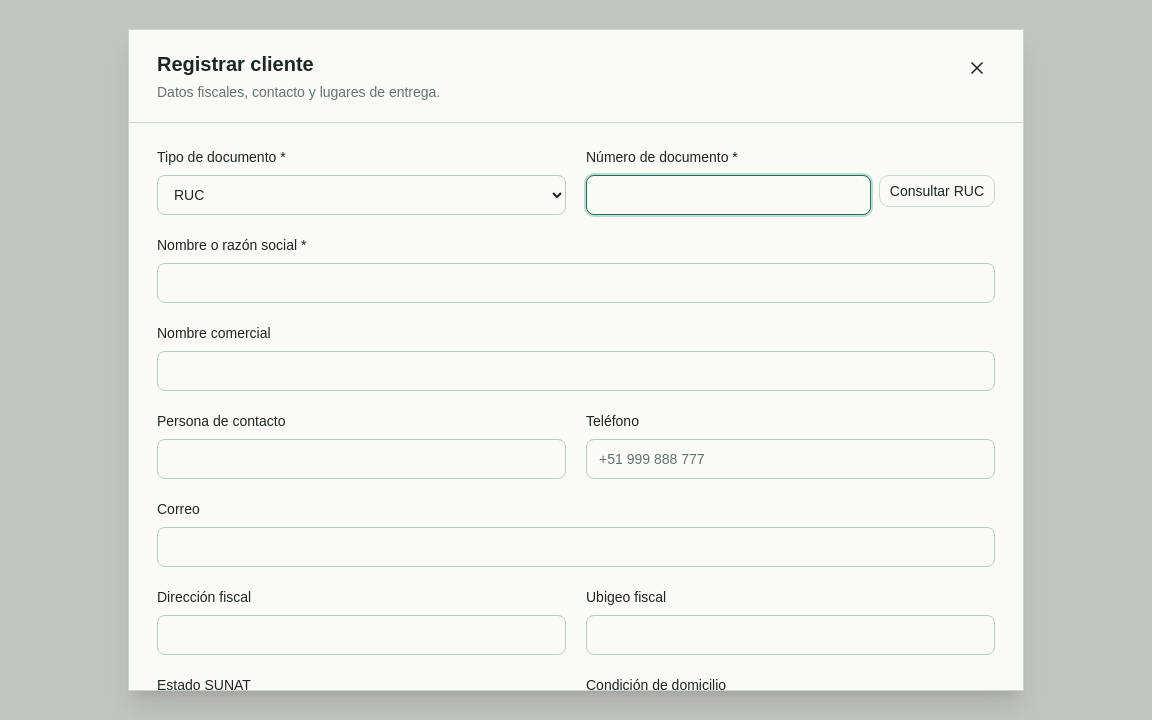
Test: DialogoCliente › descarta una respuesta tardía si el RUC cambió durante la consulta
Type "20550154065" into the field labelled "Número de documento *" at (728, 195), box [586,175,871,215]
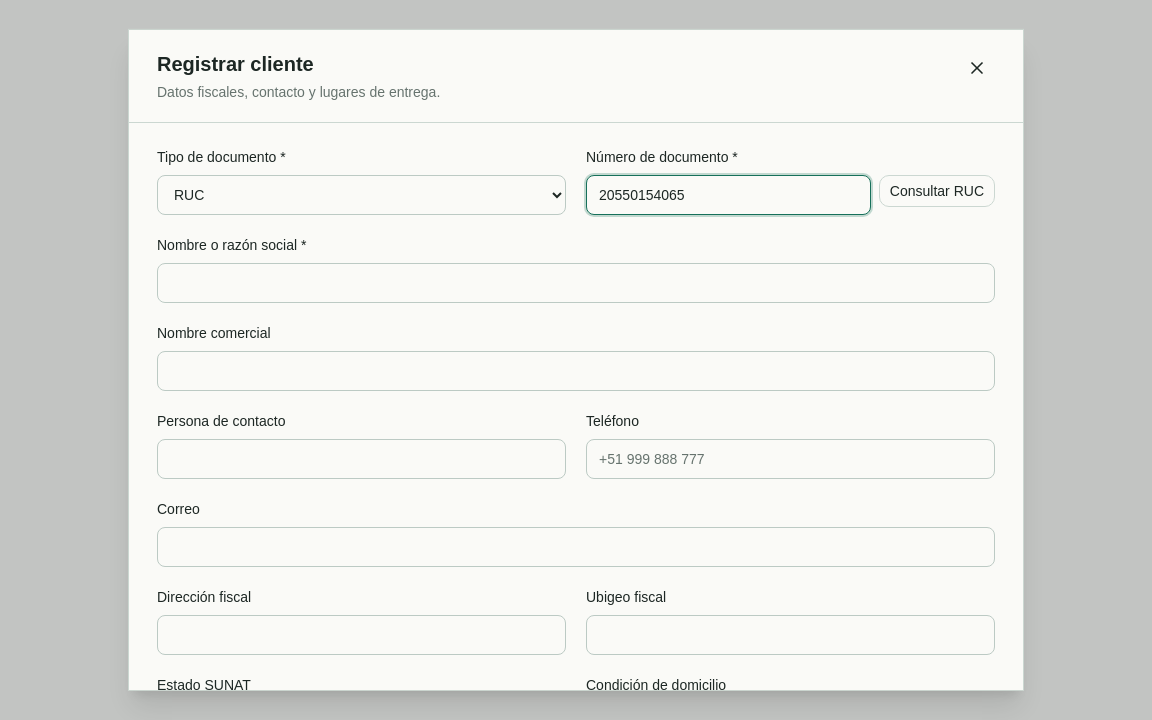
Click the button "Consultar RUC" at (937, 191), box [879,175,995,207]
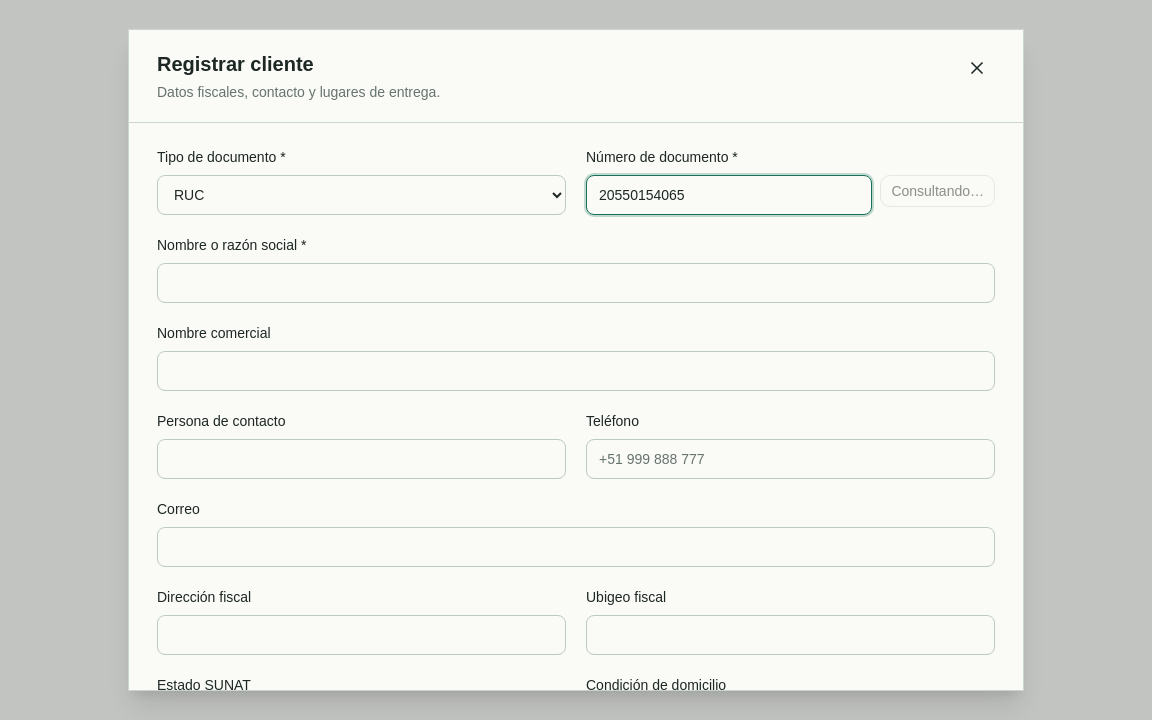
Replace the text in the field labelled "Número de documento *" with "20610712861" at (729, 195), box [586,175,872,215]
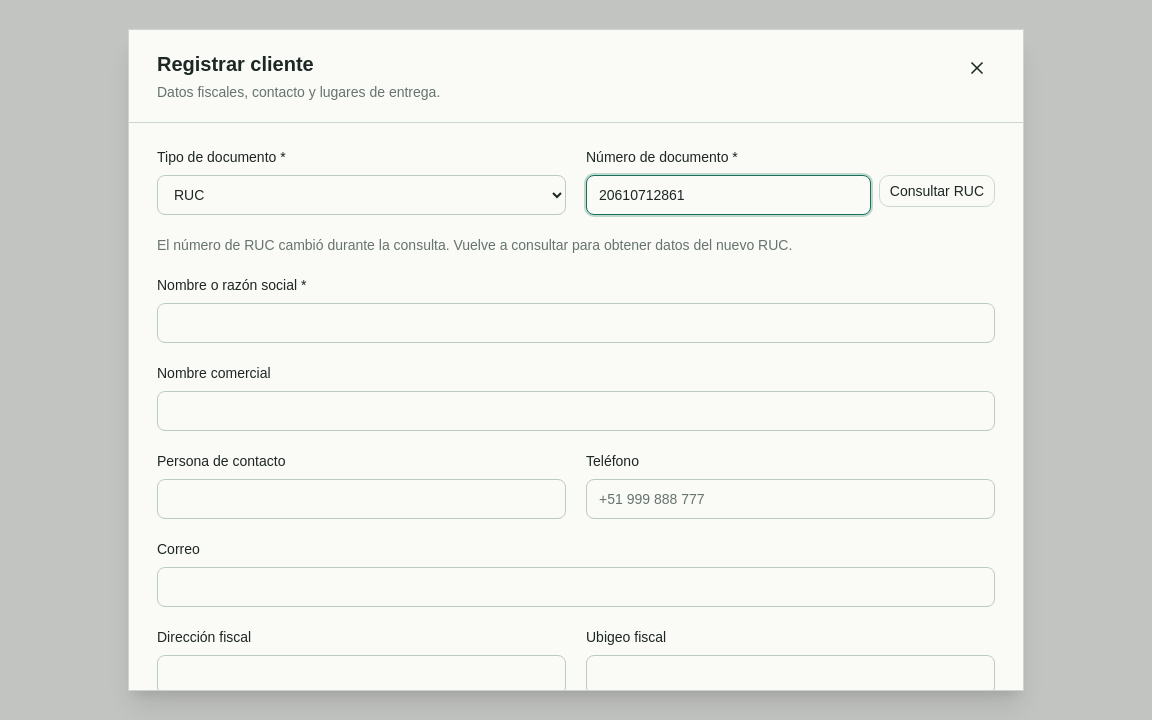
expect the field labelled "Nombre o razón social *" is empty: met, box [157,303,995,343]
expect the text "El número de RUC cambió durante la consulta" is shown: met, box [157,237,792,253]
